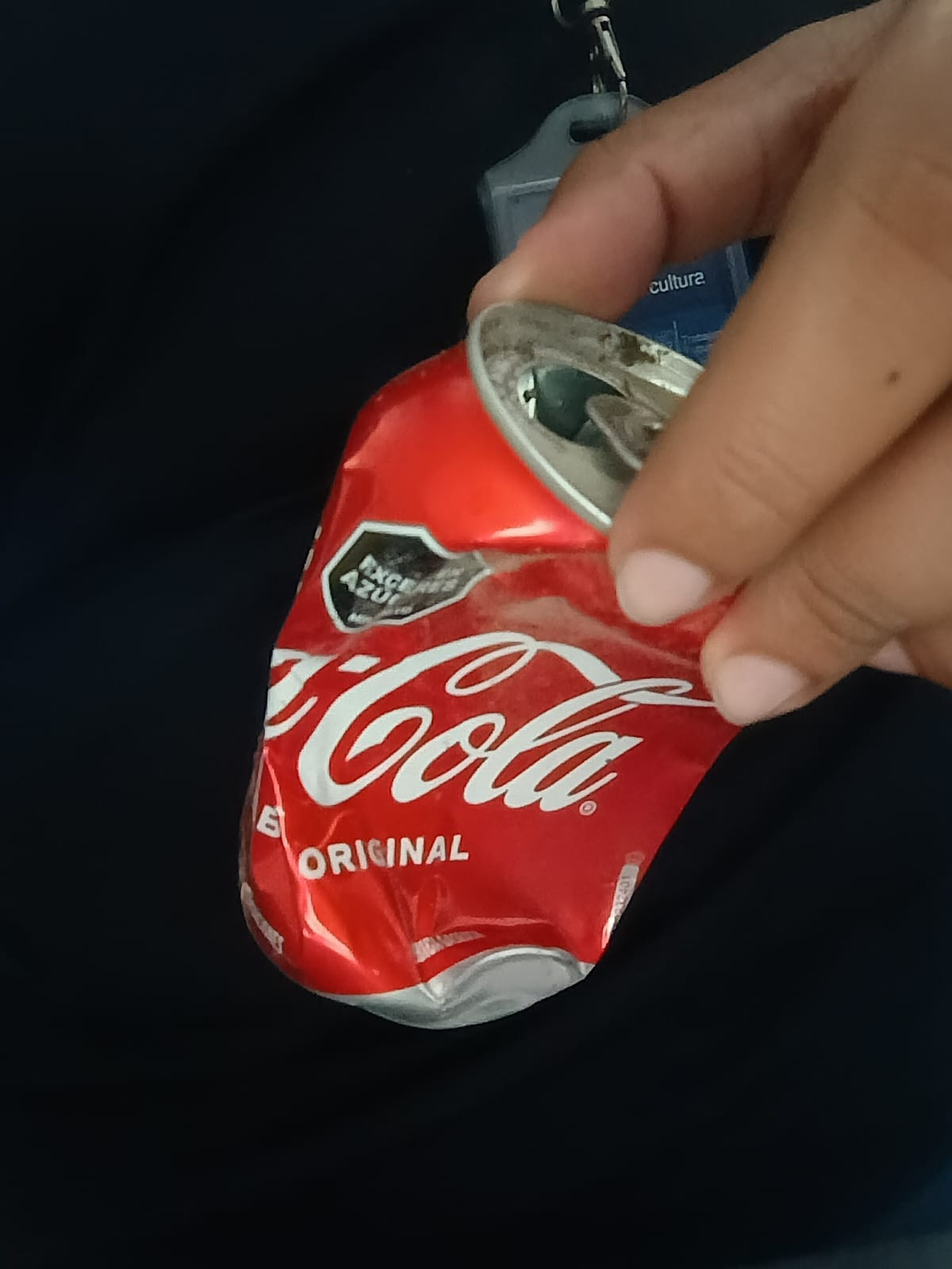Metal: (241, 297, 767, 1035)
